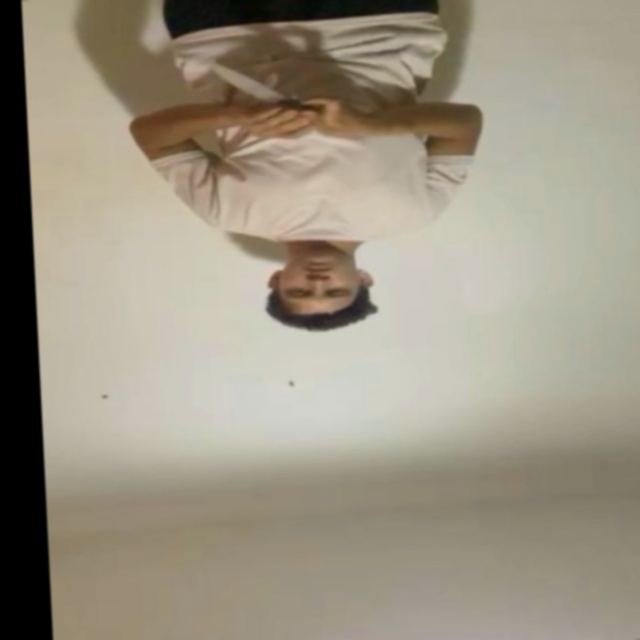Sharp-Object: (219, 65, 279, 105)
